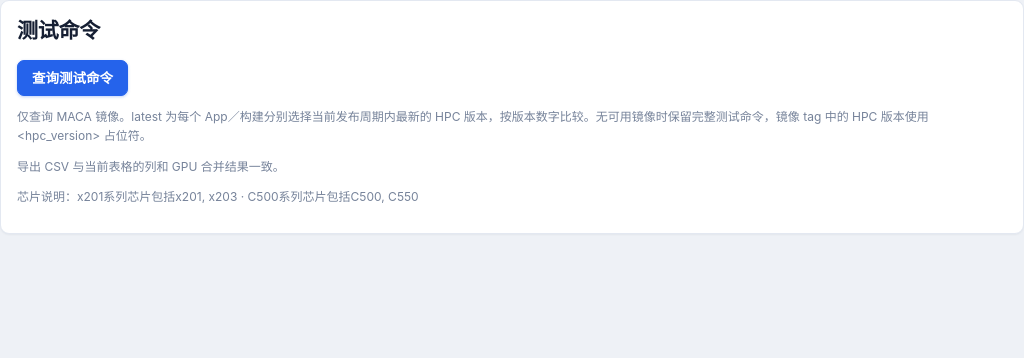
Test: shows an empty scope message when the release has no test commands
The width and height of the screenshot is (1024, 358).
Step 1. Click the button "查询测试命令" → (72, 78), box x1=17 y1=60 x2=128 y2=96
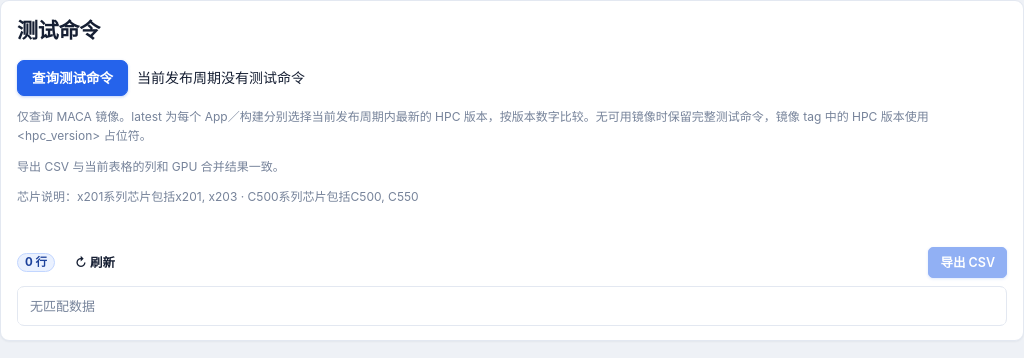
Check: the text "当前发布周期没有测试命令" is shown, box x1=137 y1=69 x2=305 y2=86
